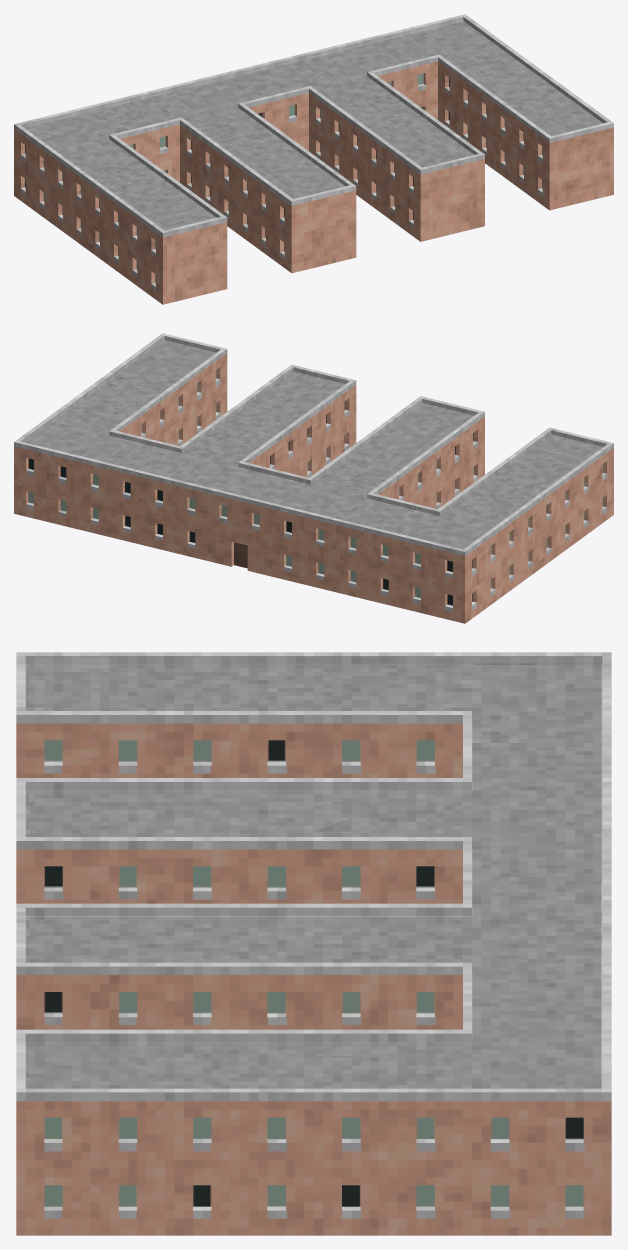
The model's file is maple.fbx.
3 renders of one model, top to bottom at view 1: azimuth 30°, elevation 25°; view 2: azimuth 150°, elevation 25°; view 3: azimuth 270°, elevation 25°, orthographic. The views are drawn at different scales.
Parts seen in each view (by area): view 1: Maple; view 2: Maple; view 3: Maple.
Part boxes in pixels (x1,y1,x2,y2): Maple: (14,14,613,304); Maple: (14,333,613,623); Maple: (16,652,611,1235).
Size of the model in its own units: 700 by 106 by 400.
1 material, 1 textured.
